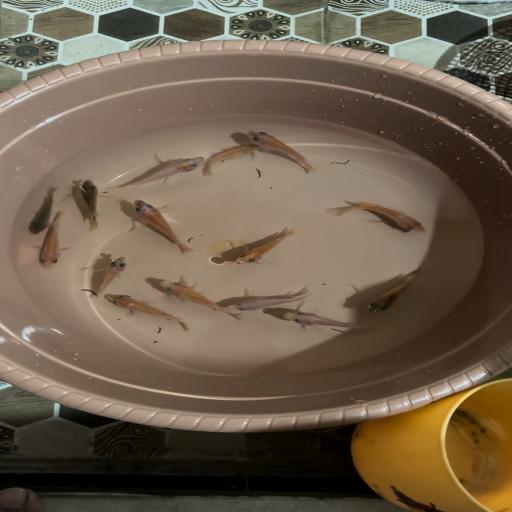nila: (123, 194, 197, 254), (320, 198, 435, 236), (106, 154, 212, 193), (244, 126, 322, 176), (100, 293, 192, 334), (152, 278, 237, 322), (228, 225, 303, 270), (361, 265, 424, 317), (216, 286, 317, 317), (30, 212, 73, 276), (79, 255, 135, 301), (278, 312, 385, 336), (196, 142, 268, 177), (19, 182, 65, 236), (70, 179, 116, 229)
